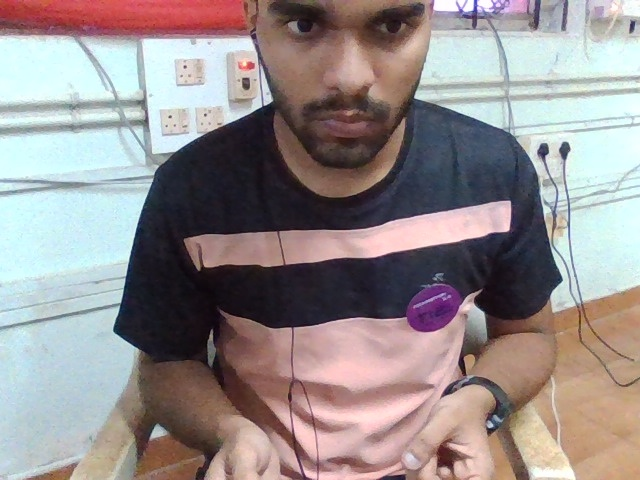play: (193, 426, 522, 480)
